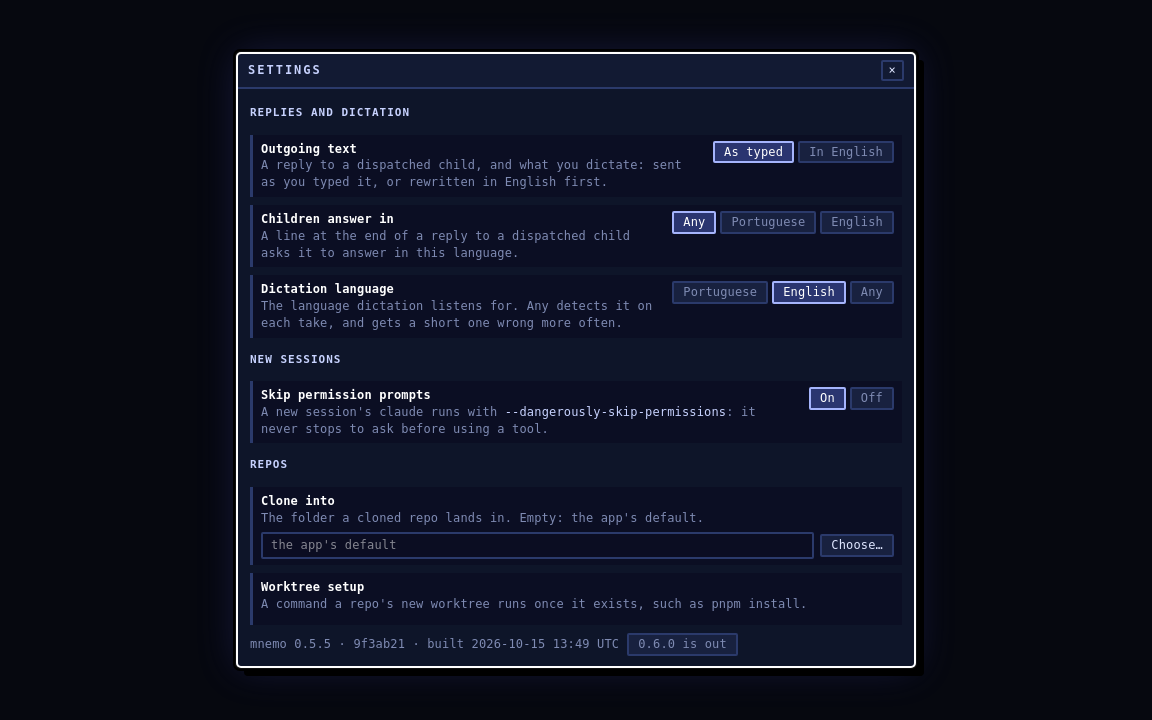
Test: the dictation language is chosen here, told to dictation and kept on this machine, not in the file
Click the button "Portuguese" in the row of "Dictation language" at (720, 293), box [672,281,768,304]
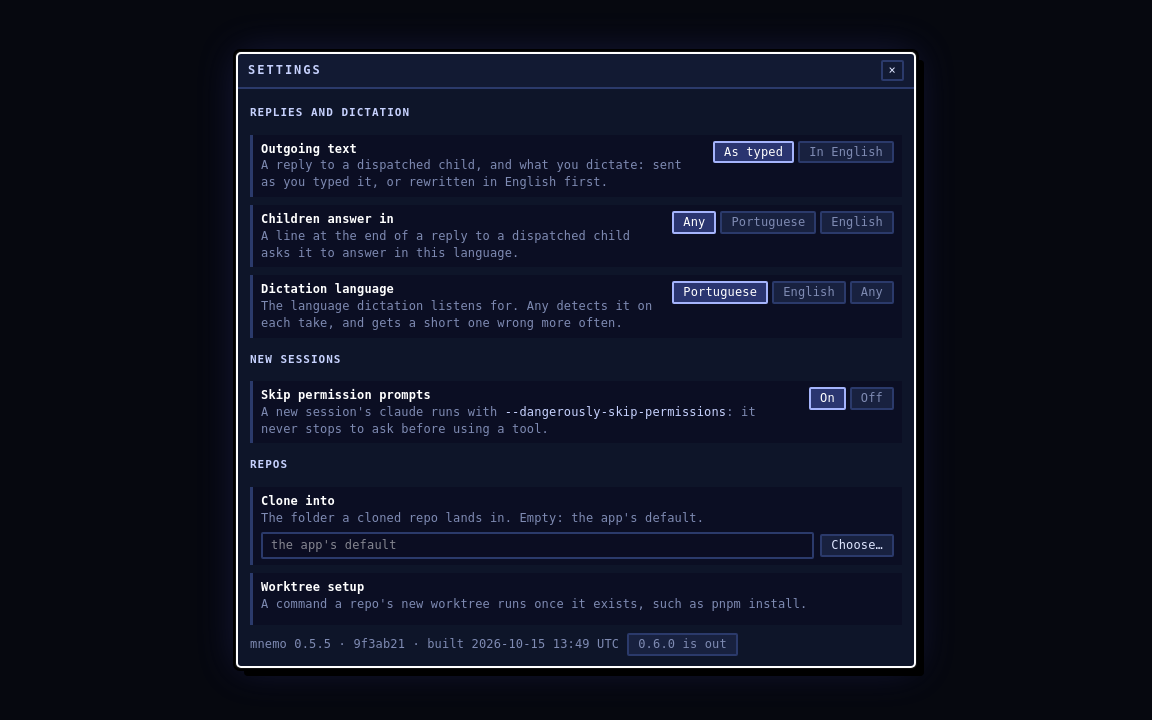
Click the button "Any" in the row of "Dictation language" at (872, 293), box [850,281,894,304]
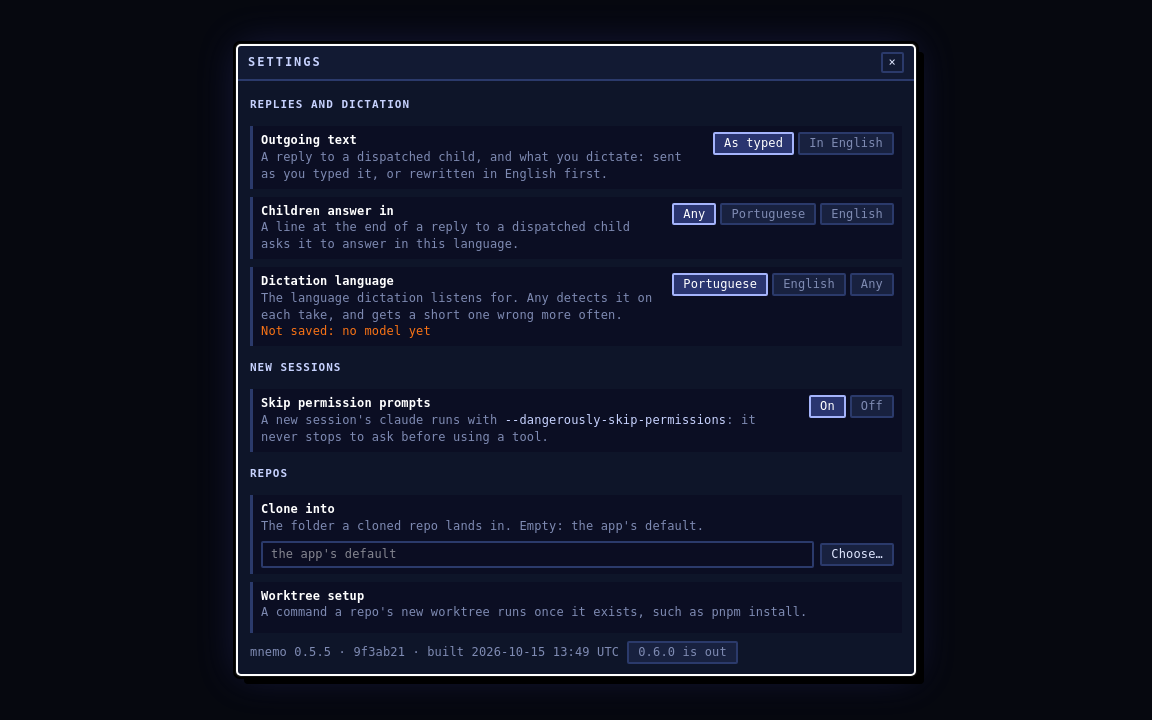
Expected: the message "Not saved: no model yet" is shown, [261,324,431,338]
